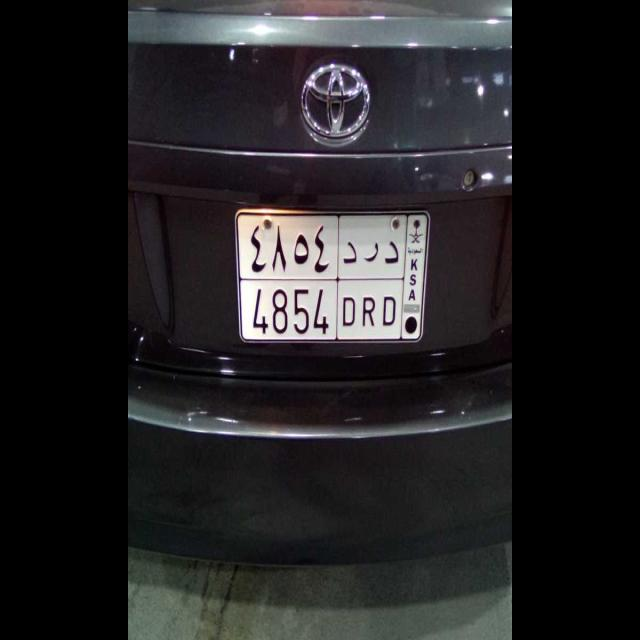license_plate: (241, 277, 404, 344)
